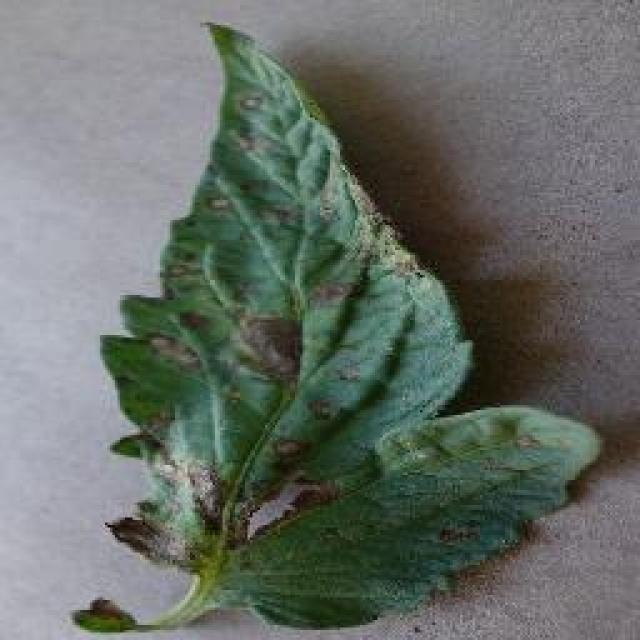Tomato Early blight leaf: (92, 18, 598, 638)
